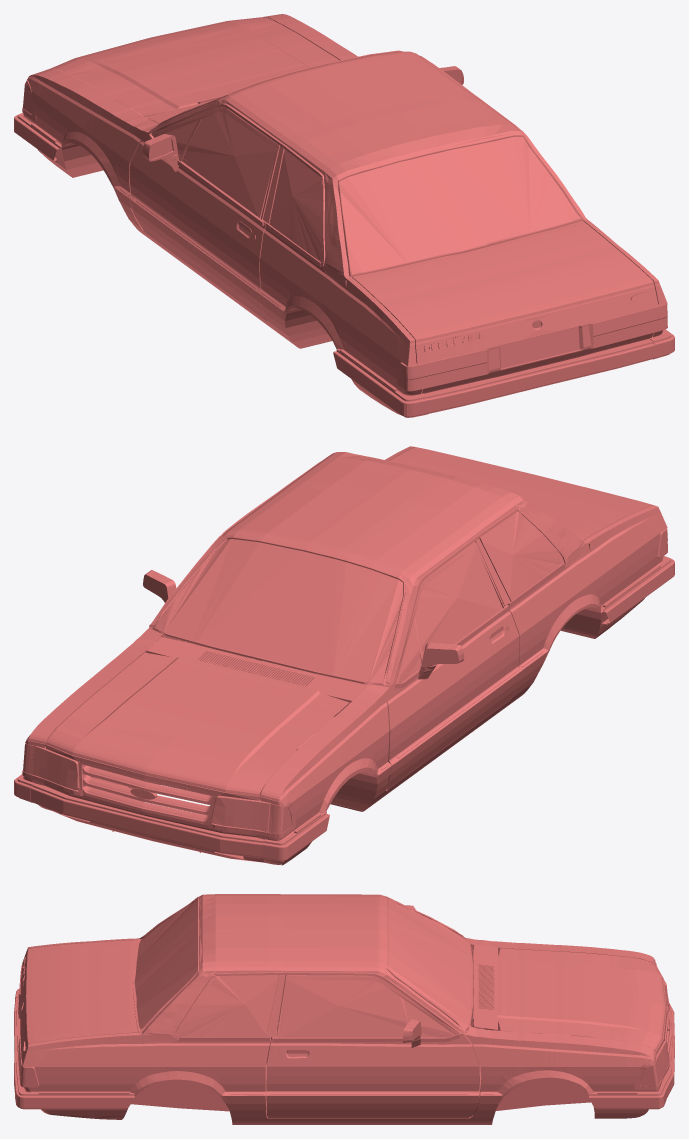
The model's file is ford-del-rey.glb.
The picture shows the model from 3 angles, top to bottom: view 1: azimuth 30°, elevation 25°; view 2: azimuth 150°, elevation 25°; view 3: azimuth 270°, elevation 25°; orthographic projection. The views are drawn at different scales.
Visible parts, largest first — view 1: boot_ok; view 2: boot_ok; view 3: boot_ok.
Boxes of the visible parts, x1=… form: boot_ok: x1=14, y1=14, x2=674, y2=417; boot_ok: x1=14, y1=446, x2=674, y2=865; boot_ok: x1=14, y1=894, x2=674, y2=1124.
Bounding box in the file's own units: 5.01 × 3.12 × 11.03.
